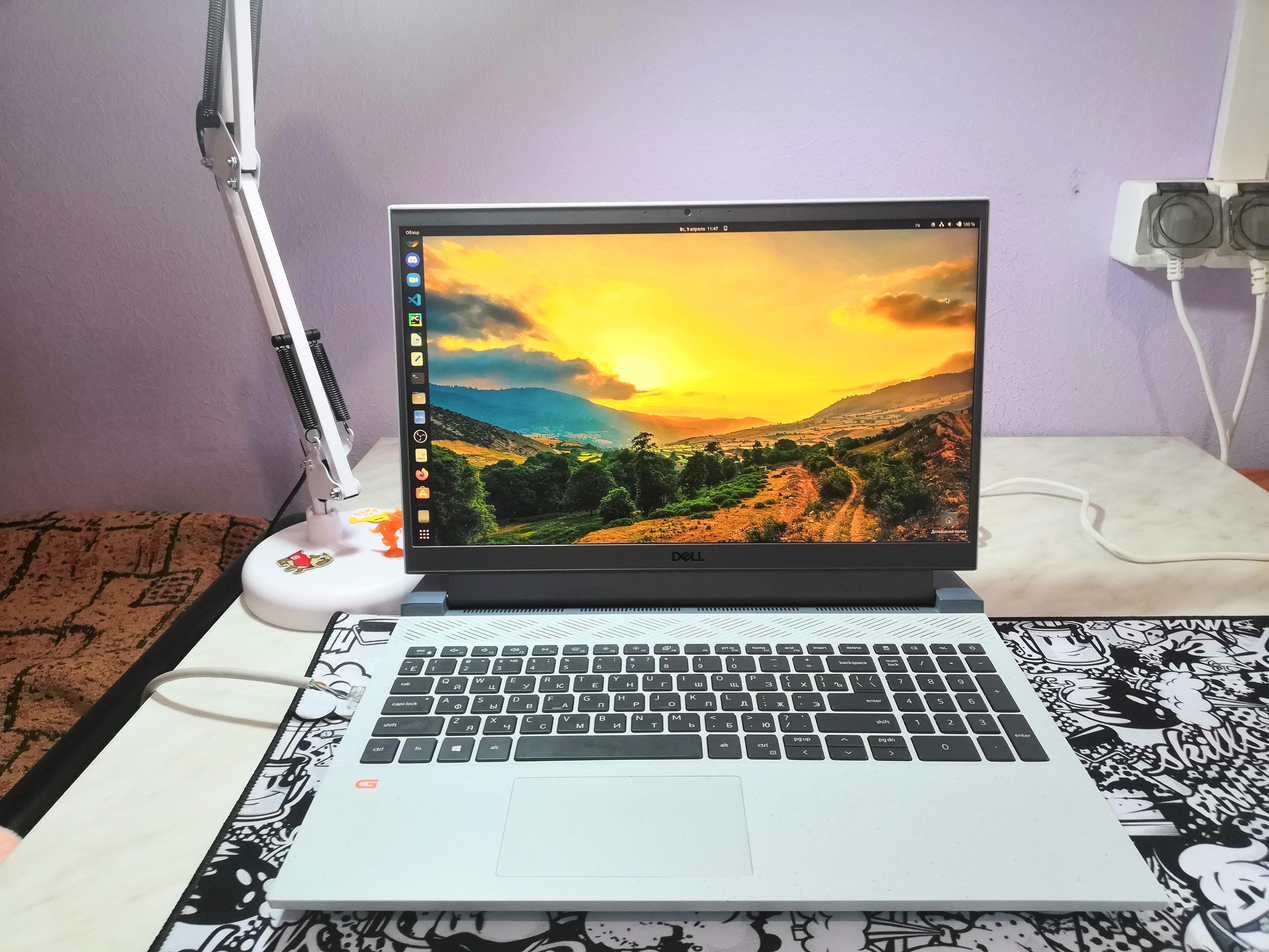monitor: (380, 194, 994, 591)
